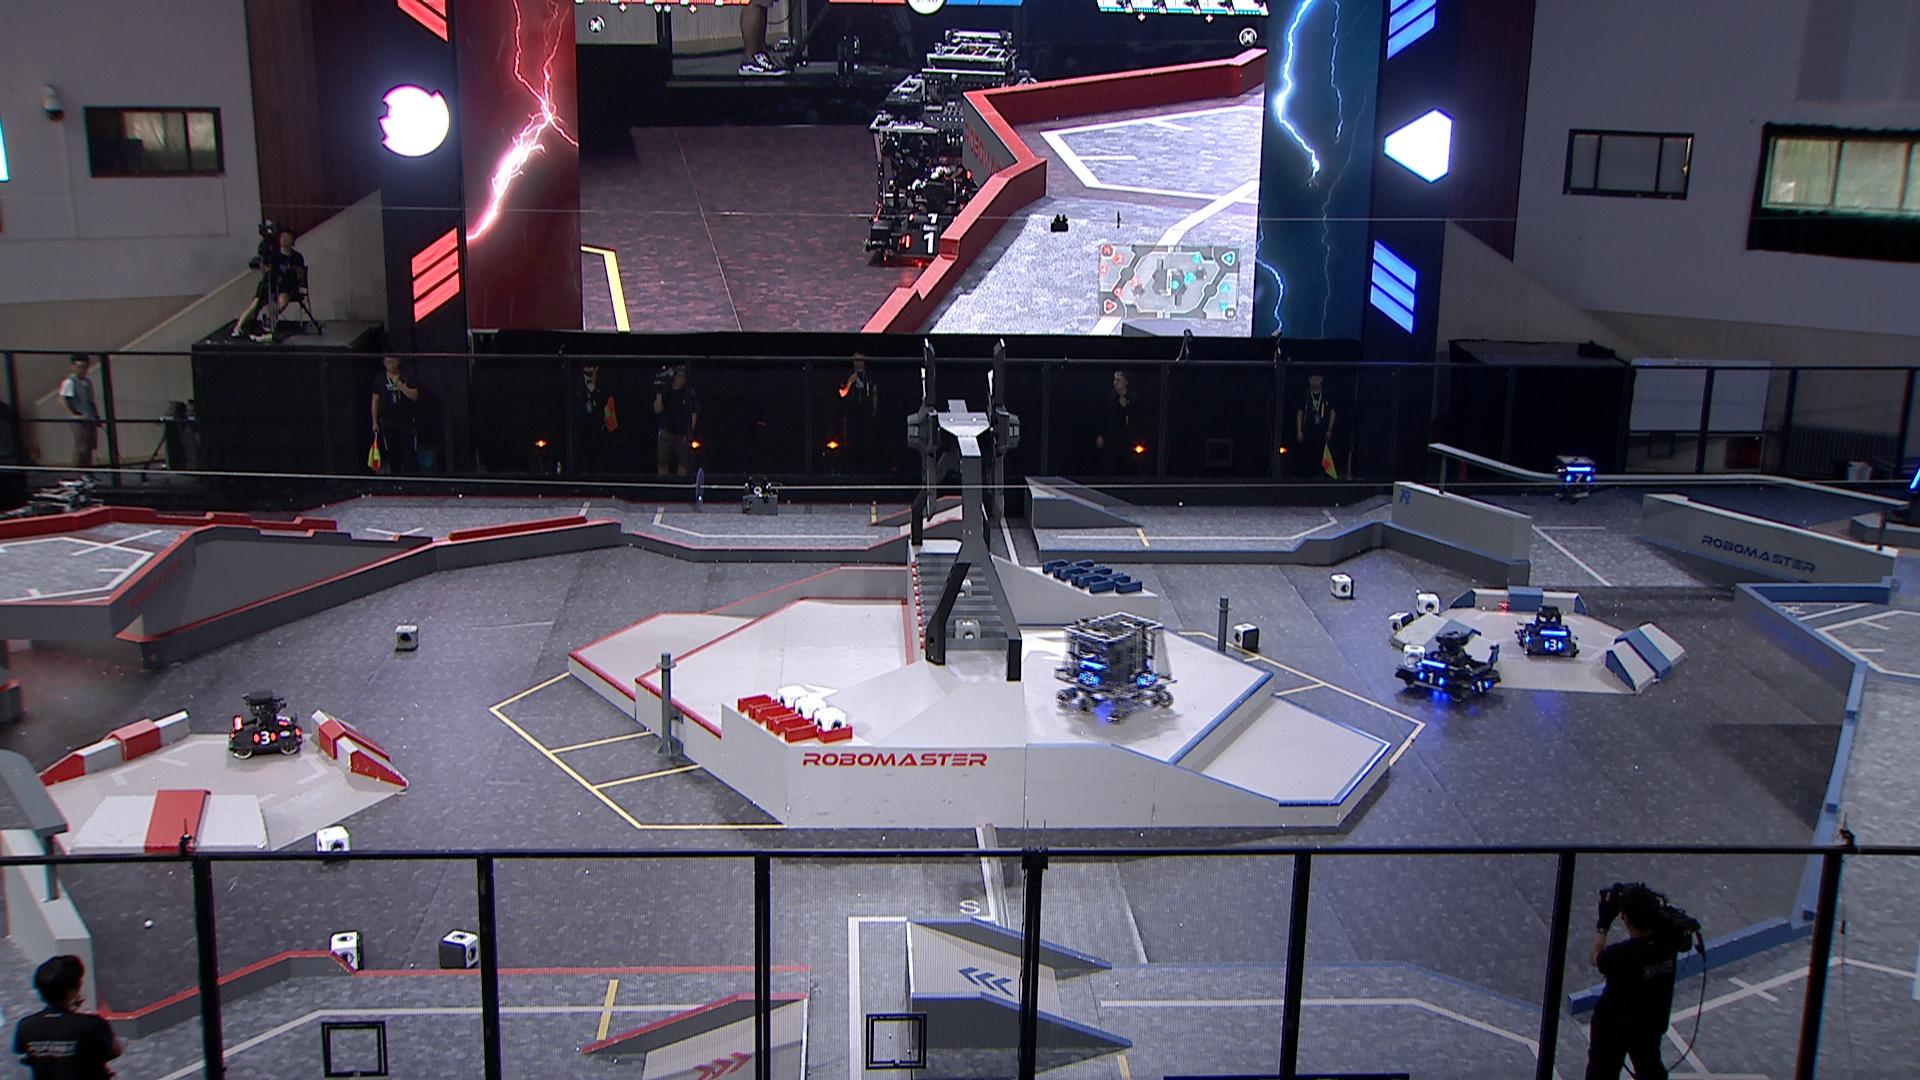armor: (1418, 670, 1447, 688), (1077, 670, 1102, 687), (252, 731, 277, 746), (1135, 671, 1158, 688), (1567, 472, 1593, 487), (1470, 679, 1491, 695), (1908, 469, 1920, 493), (1544, 638, 1565, 651), (273, 713, 291, 727), (1520, 629, 1534, 646)
base: (1884, 446, 1920, 533)
car: (1051, 611, 1178, 725), (3, 481, 103, 576), (1395, 629, 1501, 704), (228, 688, 305, 760), (1515, 607, 1581, 661)
ignore: (862, 92, 992, 266), (895, 25, 1036, 115)
watcher: (1553, 456, 1598, 504)
